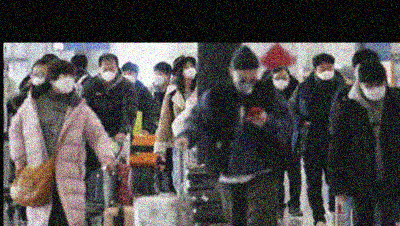with_mask: (362, 79, 386, 101), (233, 73, 256, 95), (55, 72, 77, 93), (28, 69, 46, 87), (316, 63, 335, 80), (271, 74, 289, 90), (180, 62, 196, 79), (101, 64, 116, 81), (152, 69, 165, 85), (121, 69, 136, 82)
